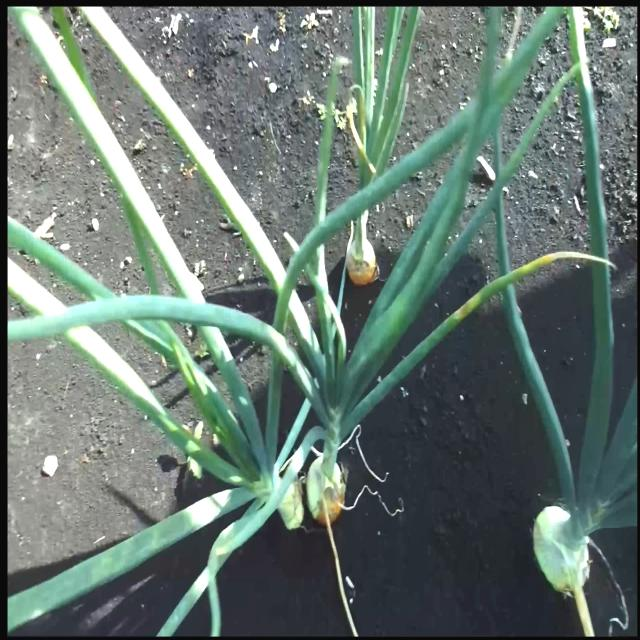onion: (532, 506, 593, 588), (306, 454, 348, 527), (345, 209, 378, 286)
